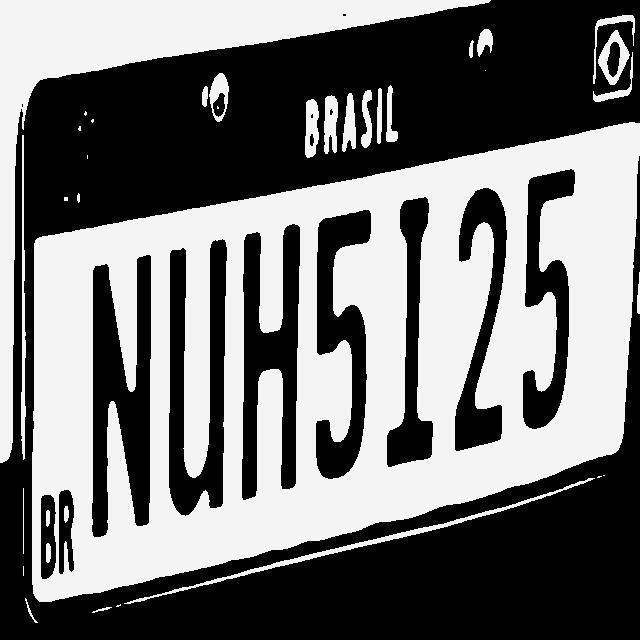2: (450, 194, 514, 474)
5: (308, 209, 373, 489), (515, 169, 581, 443)
h: (234, 220, 306, 508)
i: (381, 195, 443, 500)
n: (82, 258, 162, 554)
u: (164, 230, 238, 532)
